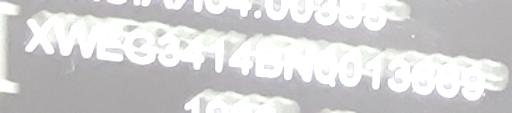letter: (52, 16, 98, 61), (122, 28, 156, 67), (251, 41, 283, 80), (283, 42, 313, 83), (25, 17, 55, 56), (460, 62, 488, 102), (96, 25, 126, 62), (226, 36, 254, 75), (409, 58, 437, 97), (180, 33, 208, 70), (336, 48, 362, 87), (314, 46, 338, 87), (435, 63, 461, 100), (384, 56, 410, 91), (156, 30, 180, 67), (204, 36, 226, 75), (364, 53, 382, 92)
